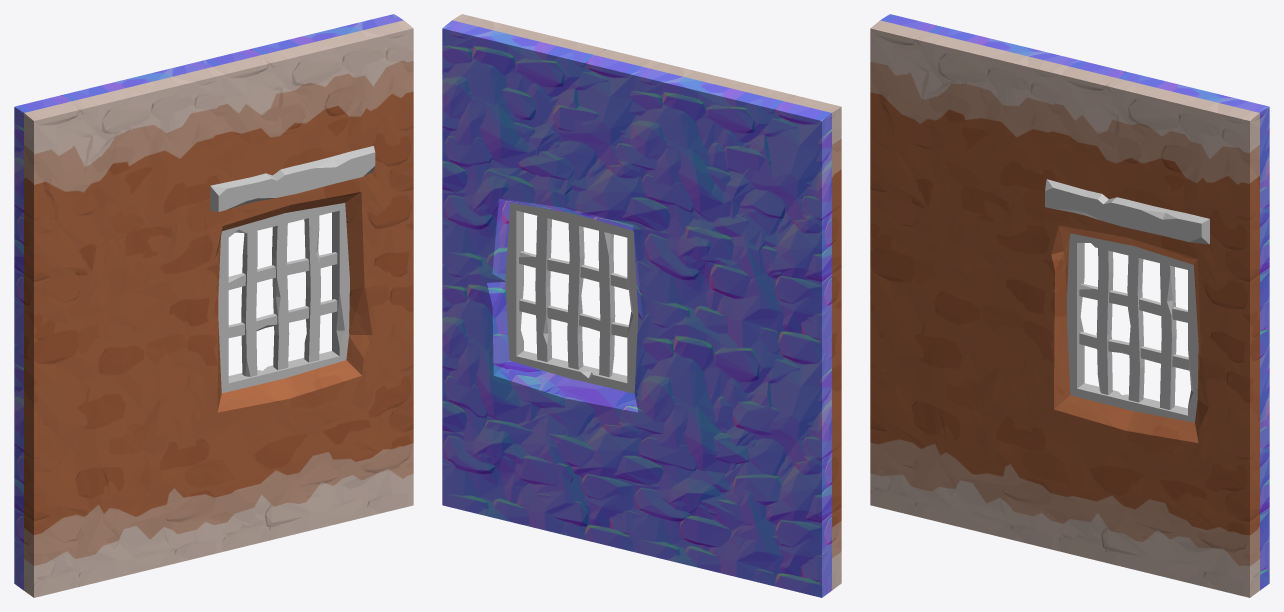
File: SM_Bld_Wall_Window_01.fbx
3 views of the same model, side by side, from view 1: azimuth 30°, elevation 25°; view 2: azimuth 150°, elevation 25°; view 3: azimuth 330°, elevation 25° (orthographic).
Visible parts, largest first — view 1: SM_Bld_Wall_Window_01; view 2: SM_Bld_Wall_Window_01; view 3: SM_Bld_Wall_Window_01.
Part boxes in pixels (x1,y1,x2,y2): SM_Bld_Wall_Window_01: (14, 14, 413, 597); SM_Bld_Wall_Window_01: (442, 14, 841, 597); SM_Bld_Wall_Window_01: (870, 14, 1269, 597).
Size of the model in its own units: 250 by 301 by 28.21.
